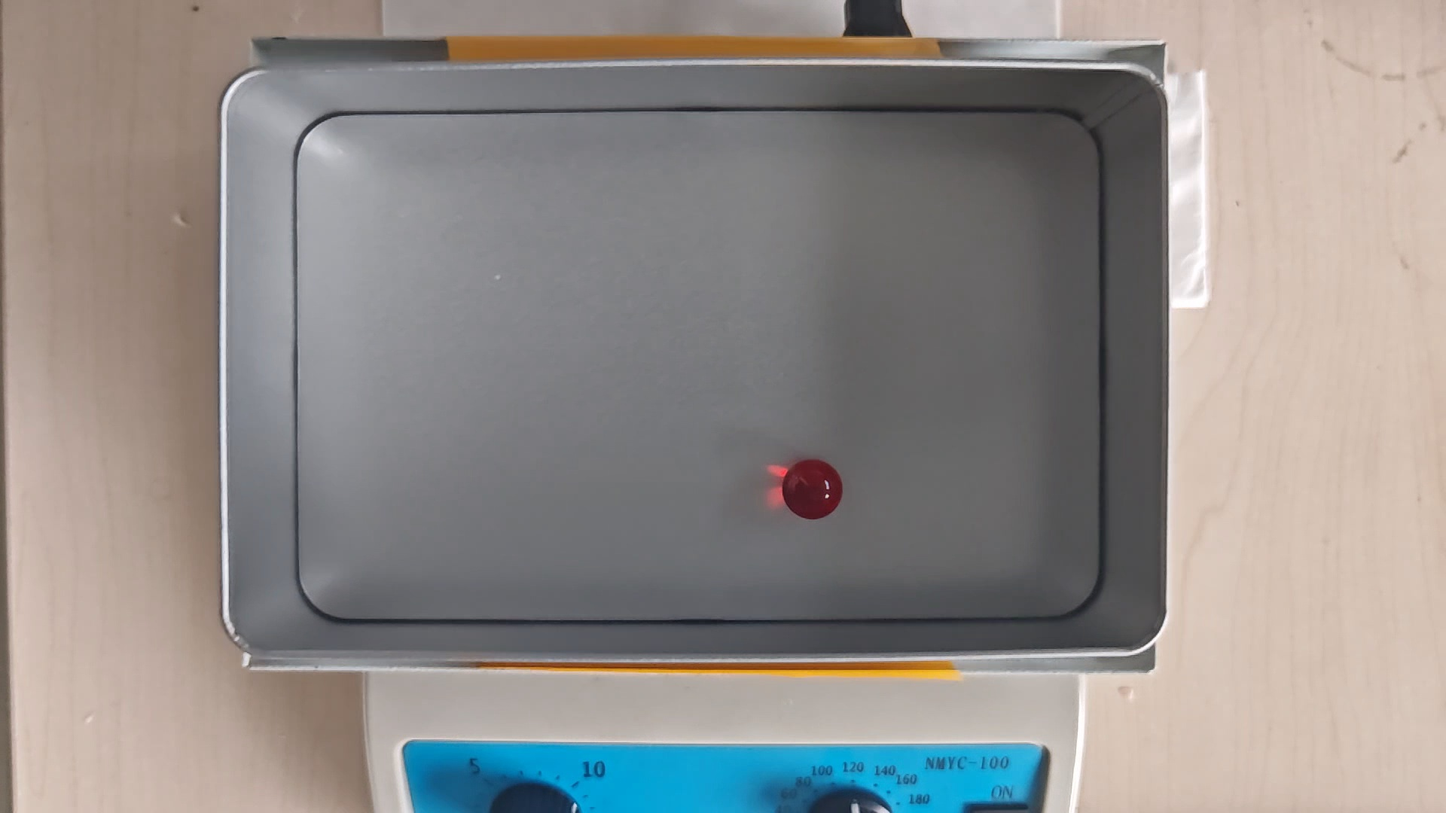ball: (782, 458, 843, 520)
container: (294, 111, 1104, 623)
